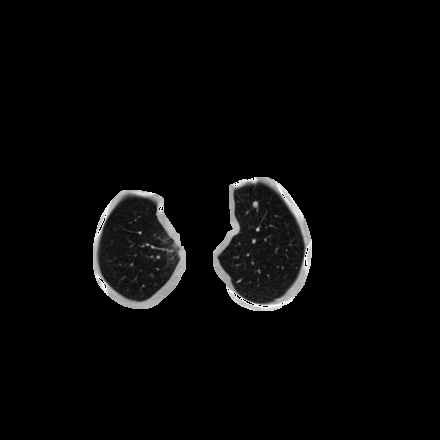PN: (251, 200, 259, 208)
